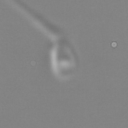normal: (9, 1, 64, 41)
